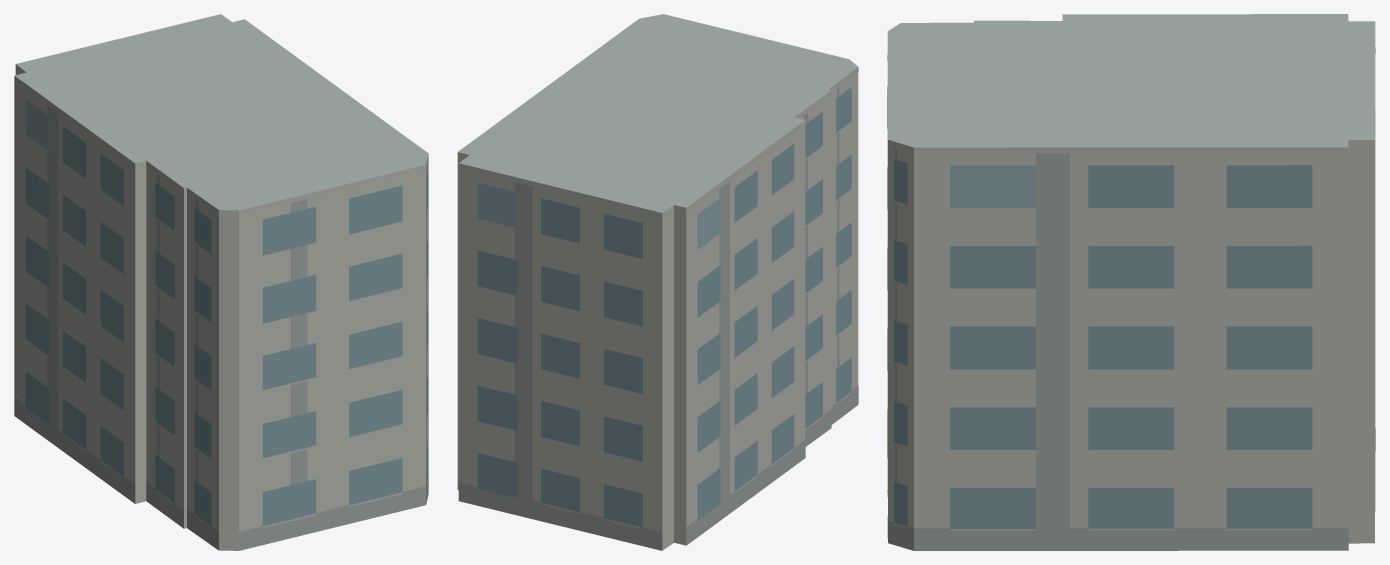
Rendered from survey-upis-32760387.glb.
3 renders of one model, left to right at view 1: azimuth 30°, elevation 25°; view 2: azimuth 150°, elevation 25°; view 3: azimuth 270°, elevation 25°, orthographic. The views are drawn at different scales.
Visible parts, largest first — view 1: survey-upis-32760387.tmp; view 2: survey-upis-32760387.tmp; view 3: survey-upis-32760387.tmp.
Part boxes in pixels (bbox=[...]): survey-upis-32760387.tmp: bbox=[14, 14, 428, 550]; survey-upis-32760387.tmp: bbox=[457, 14, 858, 550]; survey-upis-32760387.tmp: bbox=[887, 14, 1375, 550].
Bounding box in the file's own units: 11.23 × 15.8 × 17.34.
